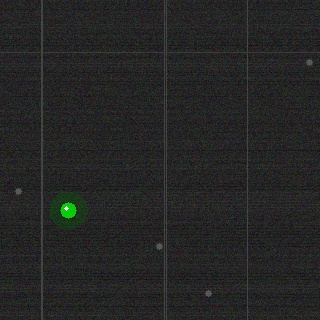green_normal: (58, 200, 78, 220)
